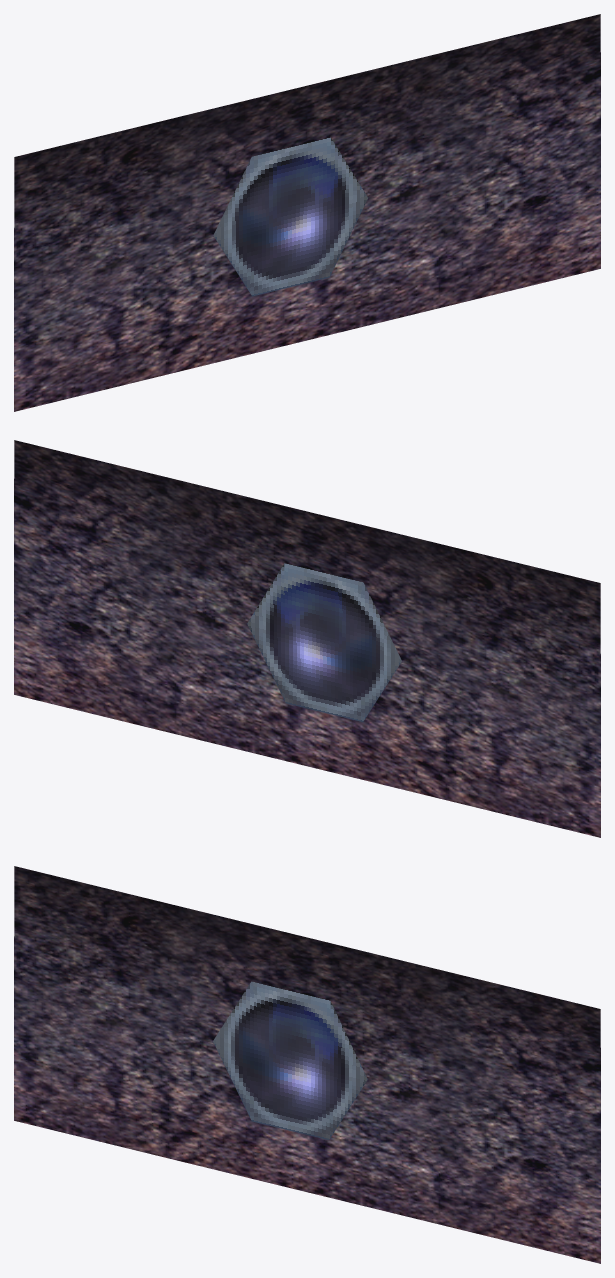
3 views of the same model, one above another, from view 1: azimuth 30°, elevation 25°; view 2: azimuth 150°, elevation 25°; view 3: azimuth 330°, elevation 25° (orthographic).
Visible parts, largest first — view 1: Object05; view 2: Object05; view 3: Object05.
Boxes of the visible parts, x1,y1,x2,y2 form: Object05: (14, 14, 600, 411); Object05: (14, 440, 600, 837); Object05: (14, 866, 600, 1263).
Bounding box in the file's own units: 1183 × 491 × 0.7021.
Materials: 2 (2 with a texture image).
